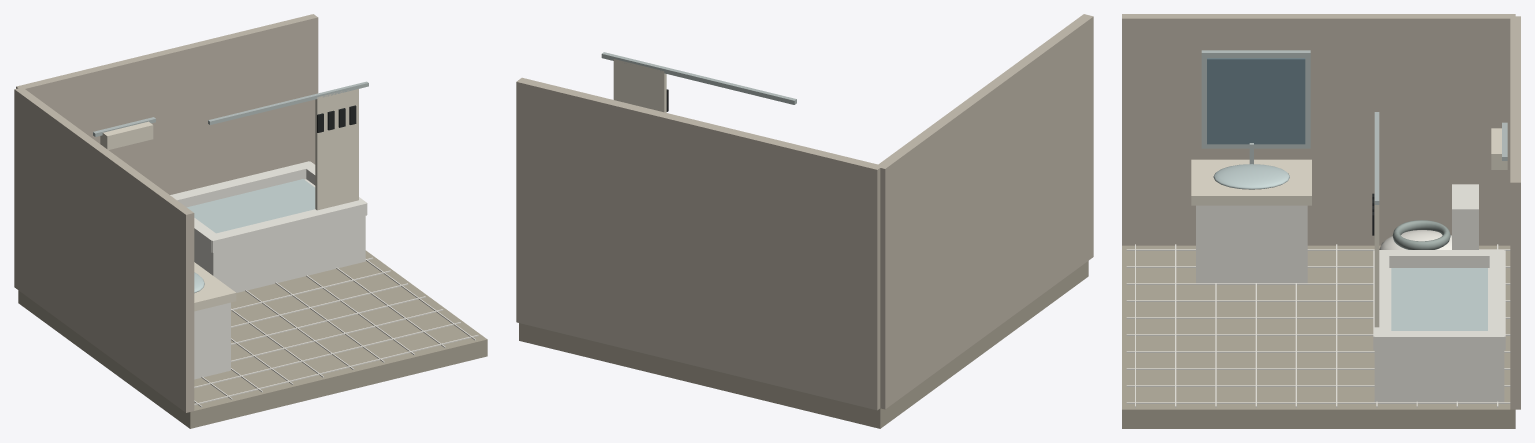
Rendered from bathroom-v1.glb.
The picture shows the model from 3 angles, left to right: view 1: azimuth 30°, elevation 25°; view 2: azimuth 150°, elevation 25°; view 3: azimuth 270°, elevation 25°; orthographic projection. The views are drawn at different scales.
Visible parts, largest first — view 1: left tiled wall, back tiled wall, tile floor, bathtub base, tub rim (×3), partly open curtain, tub interior, sink cabinet, tile grout (×3), sink counter, folded towels, shower rod; view 2: back tiled wall, left tiled wall, tile floor, partly open curtain, shower rod; view 3: left tiled wall, tile floor, sink cabinet, mirror, bathtub base, tub rim (×4), tub interior, back tiled wall, tile grout (×8), sink counter, mirror frame, toilet tank (+6 smaller).
Boxes of the visible parts, left/top/right/bottom form: left tiled wall: left=14, top=87, right=194, bottom=412; back tiled wall: left=16, top=14, right=318, bottom=194; tile floor: left=18, top=250, right=487, bottom=428; bathtub base: left=194, top=179, right=365, bottom=292; tub rim (×3): left=170, top=161, right=366, bottom=252; partly open curtain: left=315, top=89, right=358, bottom=210; tub interior: left=187, top=179, right=315, bottom=233; sink cabinet: left=194, top=302, right=230, bottom=379; tile grout (×3): left=194, top=309, right=478, bottom=405; sink counter: left=194, top=262, right=236, bottom=311; folded towels: left=100, top=121, right=153, bottom=149; shower rod: left=208, top=81, right=368, bottom=124; back tiled wall: left=516, top=77, right=882, bottom=410; left tiled wall: left=878, top=14, right=1093, bottom=409; tile floor: left=519, top=261, right=1088, bottom=428; partly open curtain: left=613, top=59, right=666, bottom=112; shower rod: left=601, top=52, right=796, bottom=104; left tiled wall: left=1122, top=14, right=1515, bottom=245; tile floor: left=1122, top=245, right=1515, bottom=428; sink cabinet: left=1196, top=205, right=1307, bottom=283; mirror: left=1207, top=58, right=1305, bottom=144; bathtub base: left=1374, top=268, right=1504, bottom=402; tub rim (×4): left=1373, top=250, right=1505, bottom=350; tub interior: left=1391, top=268, right=1487, bottom=330; back tiled wall: left=1510, top=16, right=1520, bottom=409; tile grout (×8): left=1126, top=283, right=1510, bottom=403; sink counter: left=1191, top=159, right=1311, bottom=205; mirror frame: left=1201, top=50, right=1310, bottom=148; toilet tank: left=1452, top=184, right=1478, bottom=249.
Bounding box in the file's own units: 4.46 × 3.04 × 4.46.
